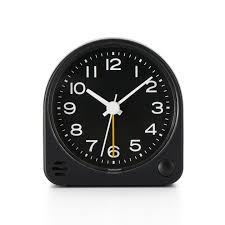alarm_clock: (41, 38, 185, 184)
